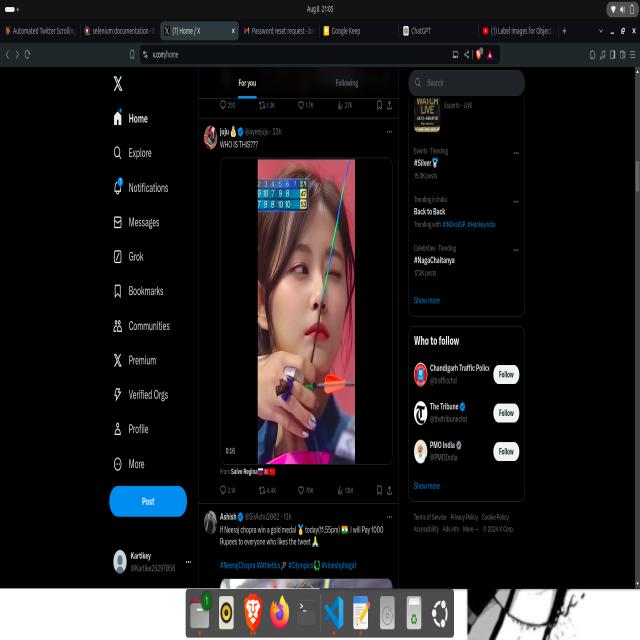Tweet-Comment_Box-: (190, 120, 406, 517)
